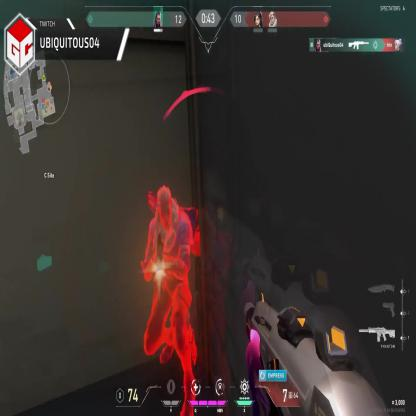enemy: (140, 184, 201, 416)
enemy_head: (156, 187, 173, 231)
